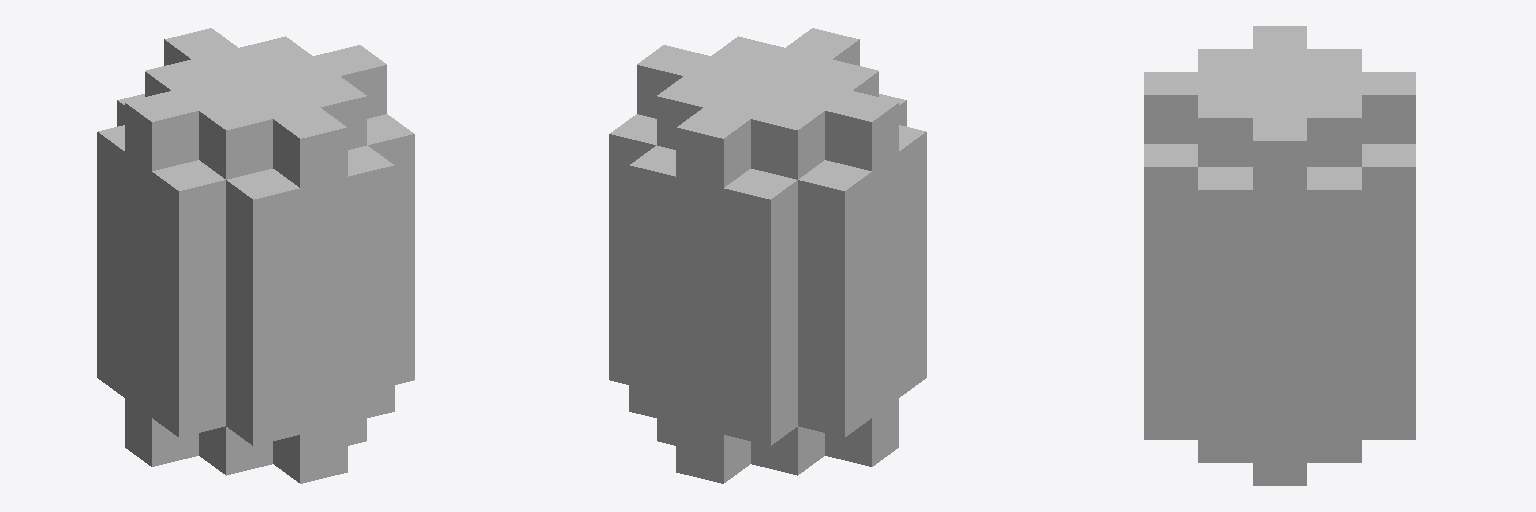
File: barrel.obj
The picture shows the model from 3 angles: view 1: azimuth 30°, elevation 25°; view 2: azimuth 150°, elevation 25°; view 3: azimuth 270°, elevation 25°; orthographic projection.
Parts seen in each view (by area): view 1: object 1; view 2: object 1; view 3: object 1.
Part boxes in pixels (bbox=[...]): object 1: bbox=[97, 28, 414, 483]; object 1: bbox=[609, 28, 926, 483]; object 1: bbox=[1144, 26, 1415, 485].
Size of the model in its own units: 0.5 by 0.7 by 0.5.